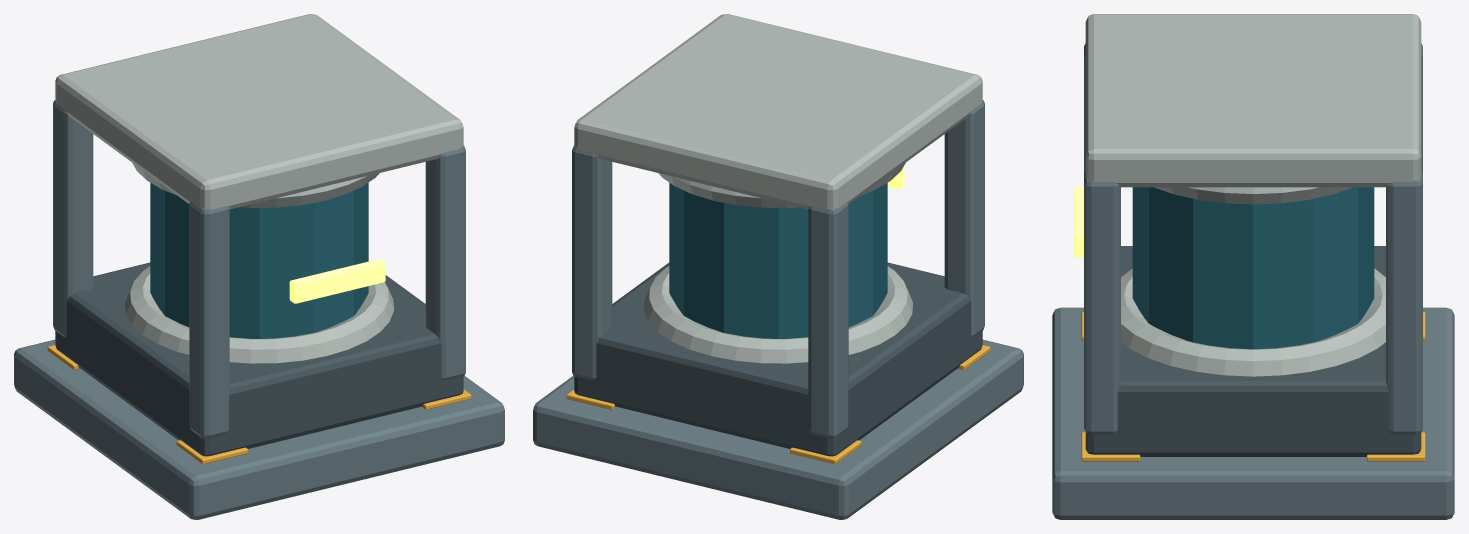
Rendered from research_specimen_crate_d0.glb.
3 views of the same model, side by side, from view 1: azimuth 30°, elevation 25°; view 2: azimuth 150°, elevation 25°; view 3: azimuth 270°, elevation 25° (orthographic). The views are drawn at different scales.
Parts seen in each view (by area): view 1: Armored lid, Shock cradle, Foundation.032, Cryogenic vessel, Impact guard, Impact guard.002, Impact guard.001, Pressure collar, Specimen indicator, Pressure collar.001, Corner locator.128; view 2: Armored lid, Shock cradle, Foundation.032, Cryogenic vessel, Impact guard.001, Impact guard.003, Pressure collar, Impact guard, Pressure collar.001, Corner locator.129; view 3: Armored lid, Cryogenic vessel, Foundation.032, Shock cradle, Pressure collar, Impact guard.002, Impact guard.003, Pressure collar.001, Specimen indicator, Corner locator.130, Corner locator.131.
Part boxes in pixels (<box>): Armored lid: <box>55,14,463,209</box>; Shock cradle: <box>55,262,463,456</box>; Foundation.032: <box>14,339,504,519</box>; Cryogenic vessel: <box>150,182,368,338</box>; Impact guard: <box>189,202,229,439</box>; Impact guard.002: <box>425,145,465,380</box>; Impact guard.001: <box>53,100,93,337</box>; Pressure collar: <box>125,266,393,363</box>; Specimen indicator: <box>289,259,385,303</box>; Pressure collar.001: <box>132,163,379,207</box>; Corner locator.128: <box>176,440,247,464</box>; Armored lid: <box>574,14,982,209</box>; Shock cradle: <box>574,262,982,456</box>; Foundation.032: <box>533,339,1023,519</box>; Cryogenic vessel: <box>669,182,887,338</box>; Impact guard.001: <box>808,202,848,439</box>; Impact guard.003: <box>572,145,612,380</box>; Pressure collar: <box>644,266,912,363</box>; Impact guard: <box>944,100,984,337</box>; Pressure collar.001: <box>658,163,905,207</box>; Corner locator.129: <box>790,440,861,464</box>; Armored lid: <box>1085,14,1421,187</box>; Cryogenic vessel: <box>1132,187,1374,349</box>; Foundation.032: <box>1052,307,1454,519</box>; Shock cradle: <box>1085,246,1421,456</box>; Pressure collar: <box>1121,268,1385,376</box>; Impact guard.002: <box>1084,171,1120,435</box>; Impact guard.003: <box>1386,171,1422,435</box>; Pressure collar.001: <box>1154,187,1352,204</box>; Specimen indicator: <box>1074,187,1083,257</box>; Corner locator.130: <box>1081,432,1140,461</box>; Corner locator.131: <box>1366,432,1425,461</box>.
Size of the model in its own units: 2.4 by 2.34 by 2.4.
